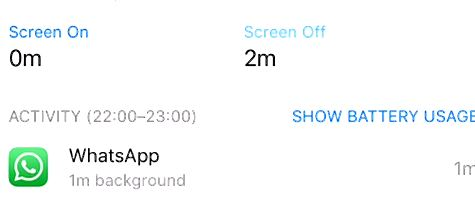activity: (4, 101, 213, 134)
